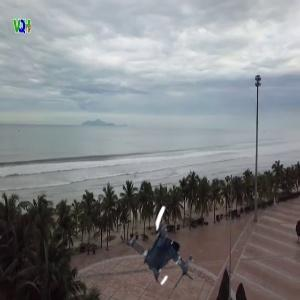drone: (117, 193, 219, 295)
